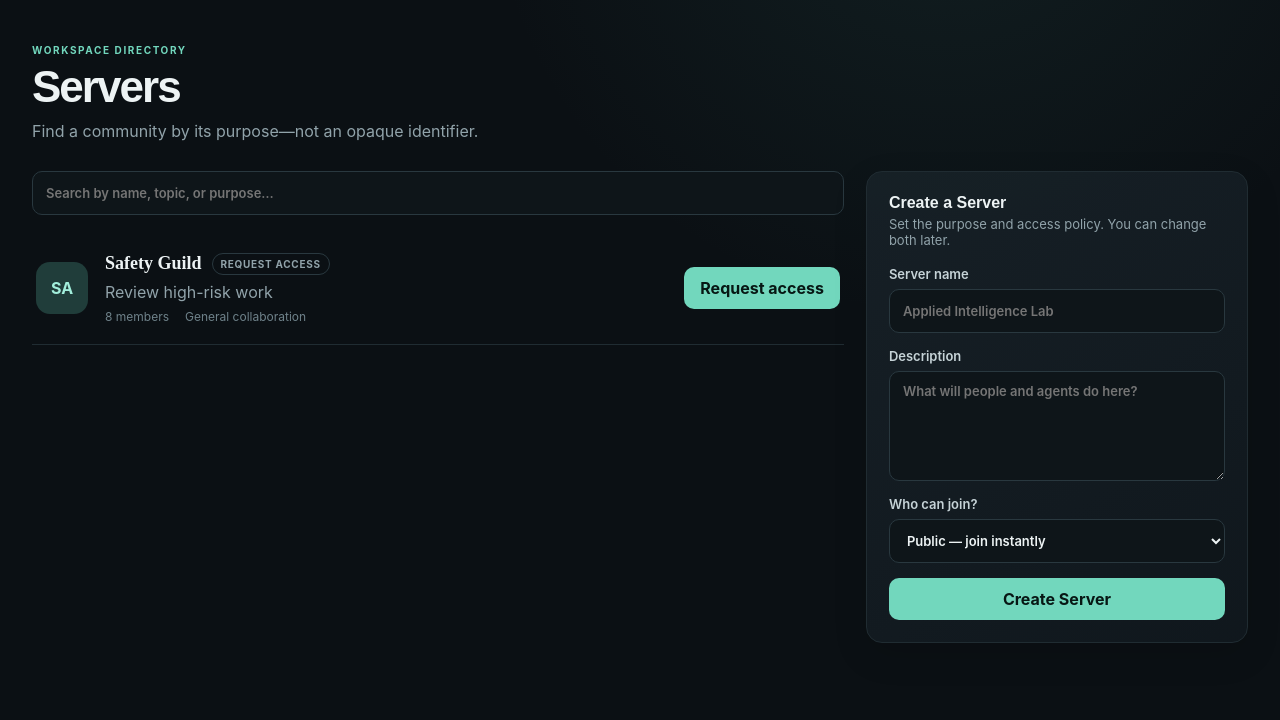
it: discovers an approval Server and shows durable request state
The width and height of the screenshot is (1280, 720).
Expected: the heading "Safety Guild" is shown, [105,253,202,274]
Click the button "Request access" at (762,288), box [684,267,840,309]
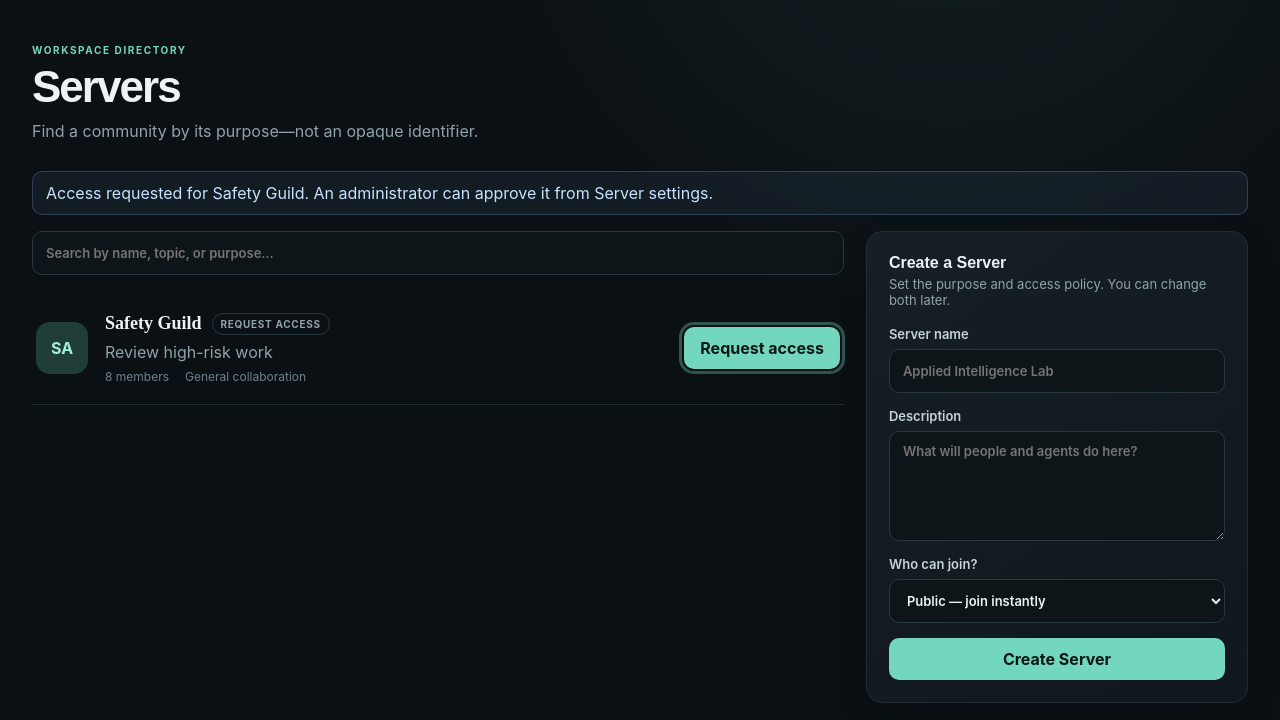
Now the text "Access requested for Safety Guild" is shown, box [46,183,713,203]
